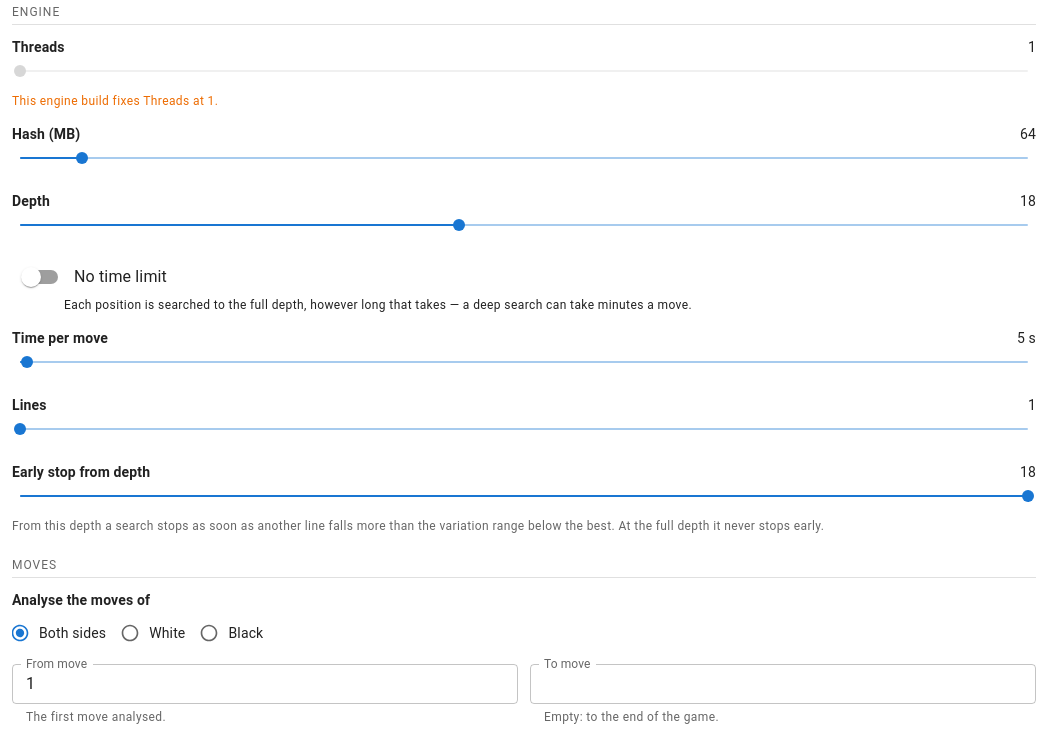
ComputerAnalysisForm (CTA-174) › switches the time limit off and back, the last time set coming back
Expected: the slider labelled "Time per move" is enabled, [21,356,33,368]
Step 1. Click the switch labelled "No time limit" → (94, 277), box [21,267,167,287]
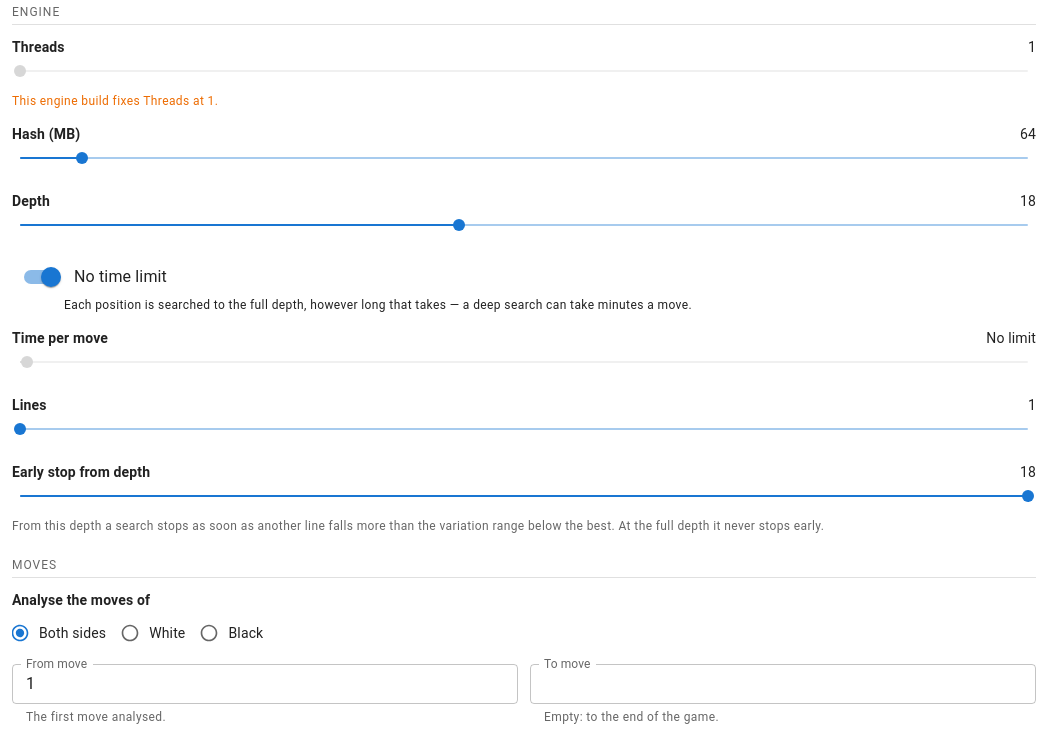
Now the switch labelled "No time limit" is checked
Now the slider labelled "Time per move" is disabled, box [21,356,33,368]
Now the text with test id "ca-movetime-value" reads "No limit", box [986,330,1036,346]
Step 2. Click the switch labelled "No time limit" → (96, 277), box [24,267,167,287]
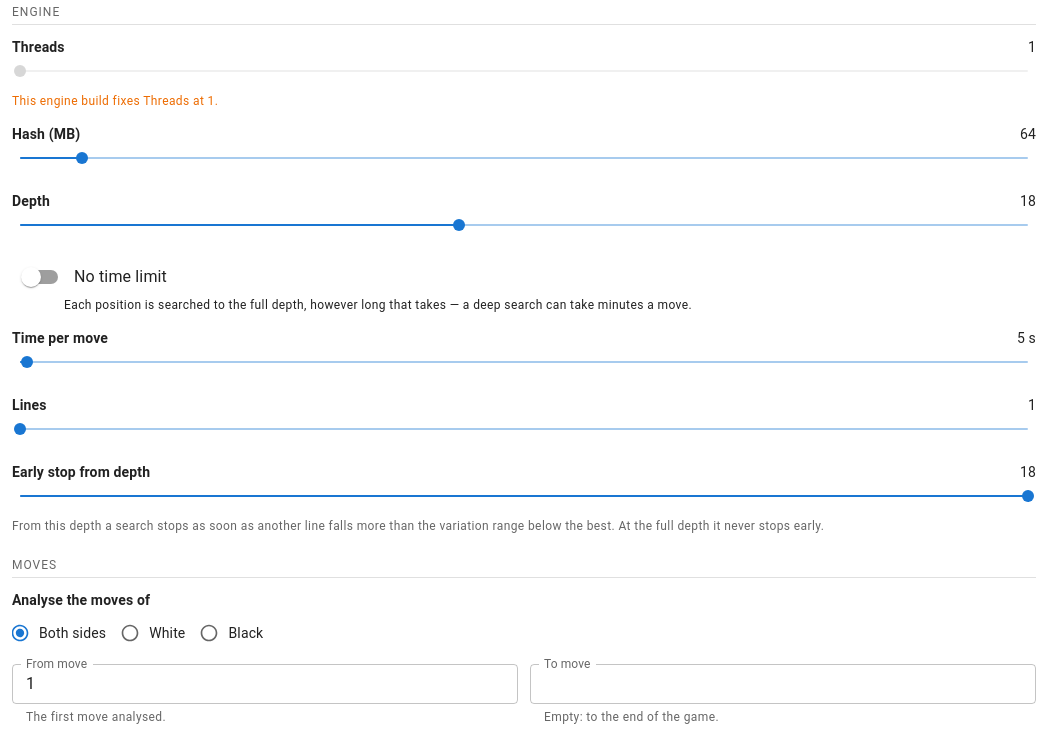
Now the slider labelled "Time per move" is enabled, box [21,356,33,368]
